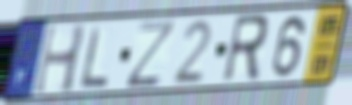2: (170, 18, 215, 87)
6: (271, 12, 309, 80)
H: (31, 22, 90, 97)
L: (79, 23, 111, 92)
R: (219, 12, 271, 87)
Z: (123, 17, 179, 91)
